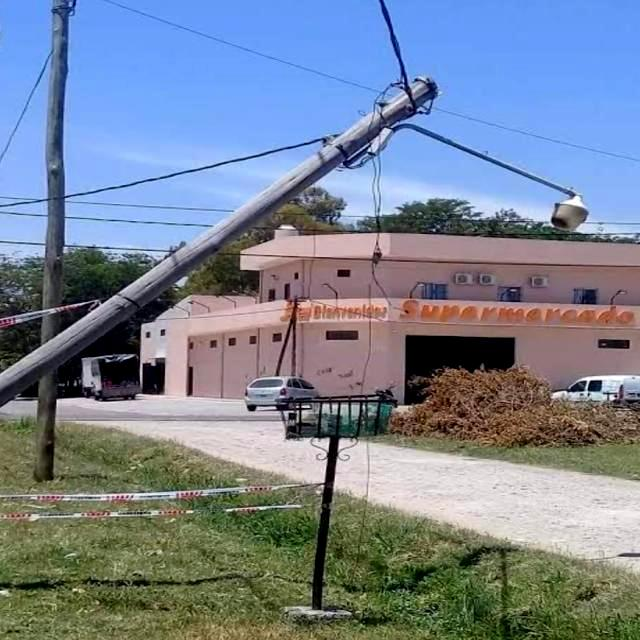Broken Pole: (0, 71, 596, 410)
